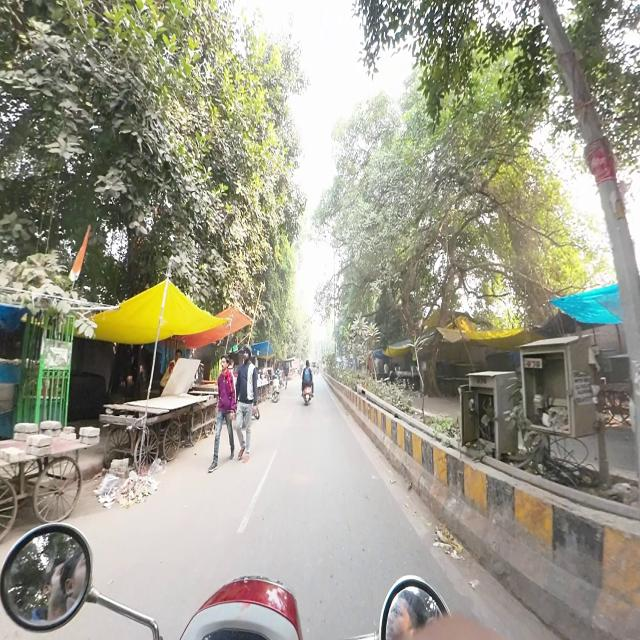Garbage: (97, 473, 154, 505), (147, 459, 170, 484)
